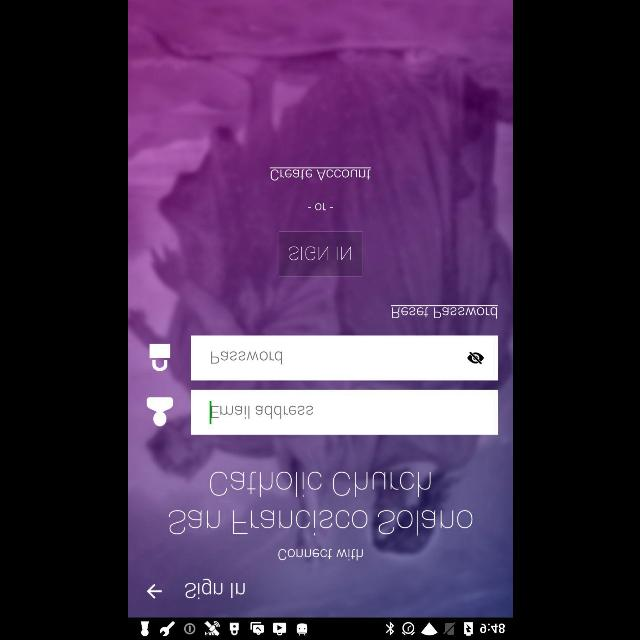backgroundimage: (128, 0, 512, 618)
icon: (146, 398, 172, 427), (148, 344, 170, 371), (146, 583, 162, 599), (466, 352, 484, 364)
input: (190, 390, 498, 434), (190, 336, 498, 380)
text: (168, 470, 472, 536), (390, 305, 498, 319), (184, 578, 244, 600), (210, 406, 312, 418), (269, 168, 371, 180), (278, 549, 362, 561), (210, 352, 282, 364), (314, 203, 326, 211)
textbutton: (278, 232, 362, 276)
uppertaskbar: (128, 617, 512, 639)
